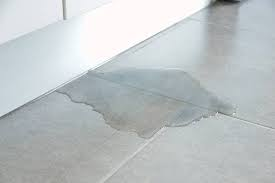Wet-floor: (59, 66, 243, 138)
